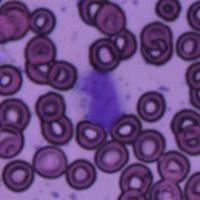M: (78, 70, 130, 130)
